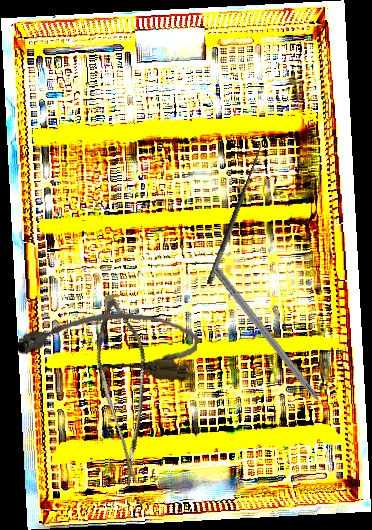Cannula: (16, 300, 200, 384)
Hook Surgical: (211, 265, 341, 429), (195, 137, 268, 287)
Micro Scissor: (69, 290, 184, 492)
